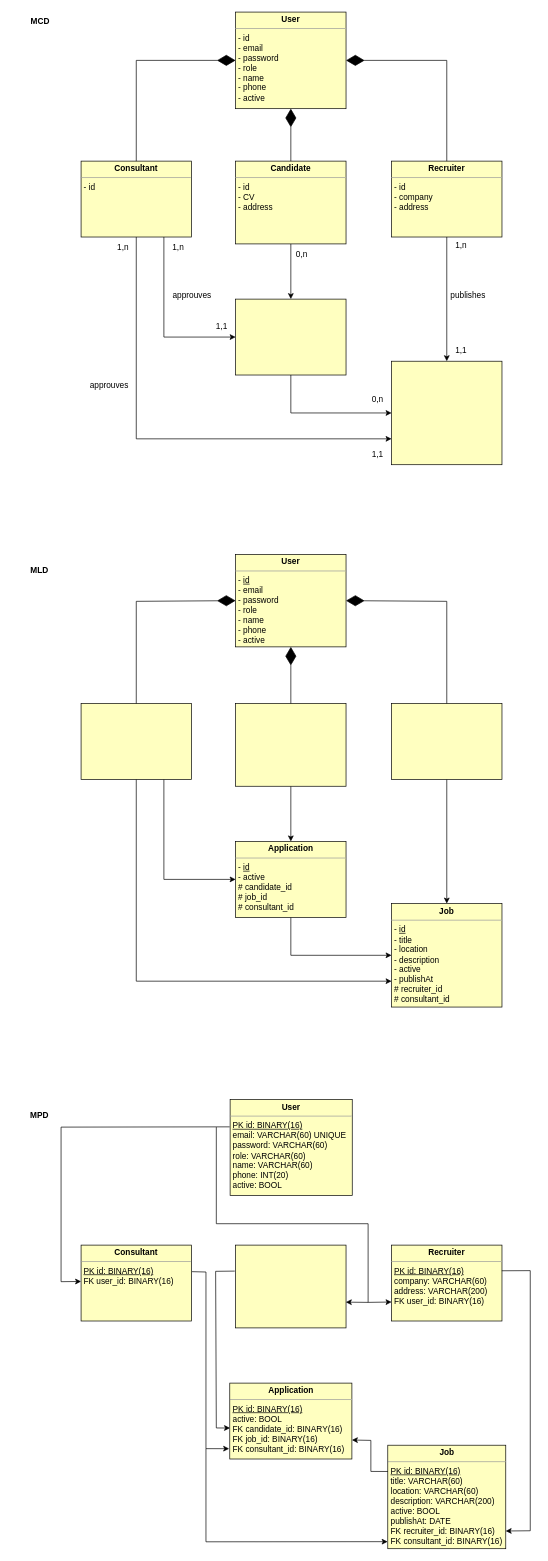
This 548x1561 diagram has some shape labels left out. The centre of each missing label's shape, as x and y in pixels:
"Application - id - active" belongs at [290,336].
"Candidate - id - CV - address # user_id" belongs at [290,744].
"Candidate PK id: BINARY(16) CV address: VARCHAR(200) FK user_id: BINARY(16)" belongs at [290,1286].
"Consultant - id # user_id" belongs at [135,741].
"Job - id - title - location - description - active - publishAt" belongs at [446,413].
"Recruiter - id - company - address # user_id" belongs at [446,741].
